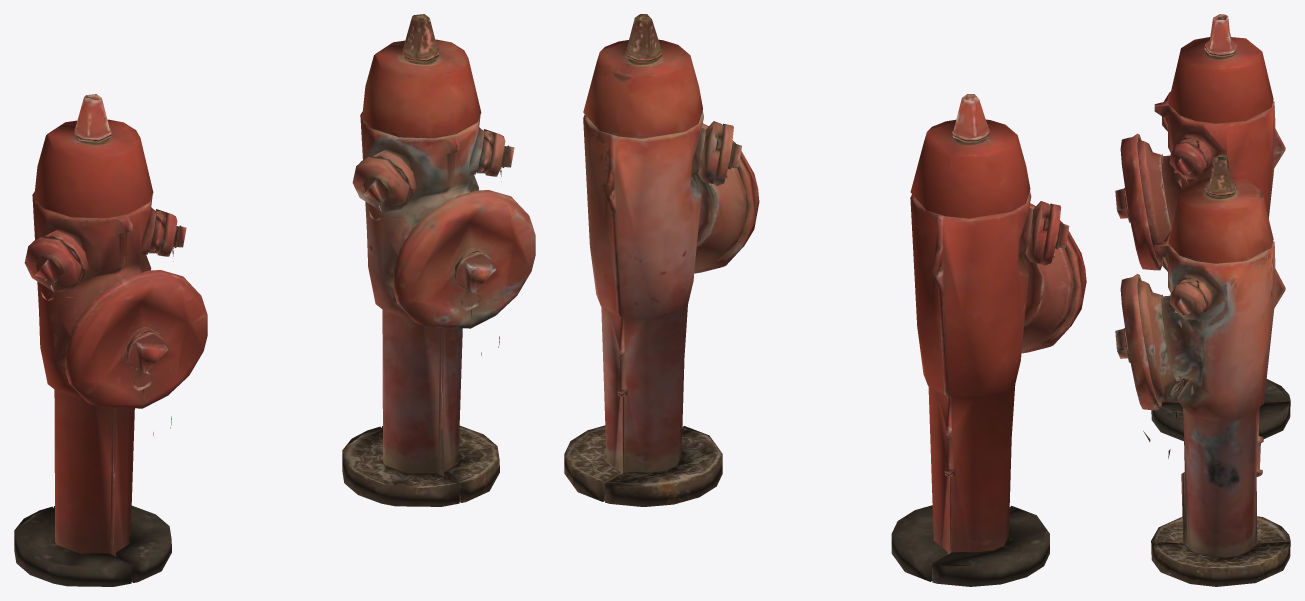
File: fire_hydrant.glb
3 views of the same model, side by side, from view 1: azimuth 30°, elevation 25°; view 2: azimuth 150°, elevation 25°; view 3: azimuth 270°, elevation 25° (orthographic). The views are drawn at different scales.
Parts seen in each view (by area): view 1: fire_hydrant_aged, fire_hydrant; view 2: fire_hydrant, fire_hydrant_aged; view 3: fire_hydrant_aged, fire_hydrant.
Part boxes in pixels (left/top/right/bottom): fire_hydrant_aged: left=342, top=14, right=535, bottom=506; fire_hydrant: left=14, top=94, right=207, bottom=586; fire_hydrant: left=891, top=94, right=1086, bottom=586; fire_hydrant_aged: left=564, top=14, right=759, bottom=506; fire_hydrant_aged: left=1115, top=154, right=1290, bottom=586; fire_hydrant: left=1115, top=14, right=1290, bottom=441.
Size of the model in its own units: 0.8728 by 0.7992 by 0.3173.
Materials: 2 (2 with a texture image).
